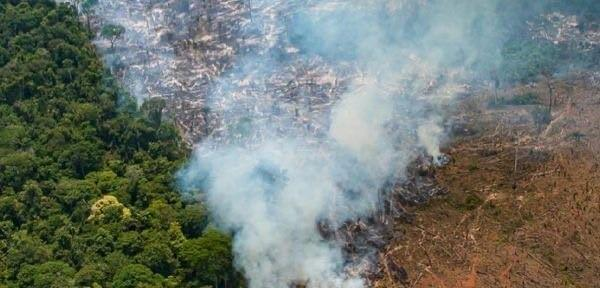smoke: (172, 82, 385, 286), (339, 19, 468, 179)
